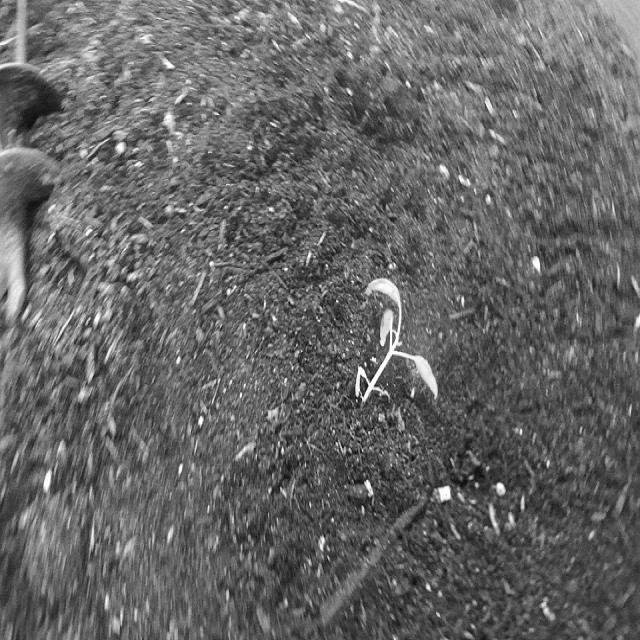Healthy: (352, 275, 440, 414)
